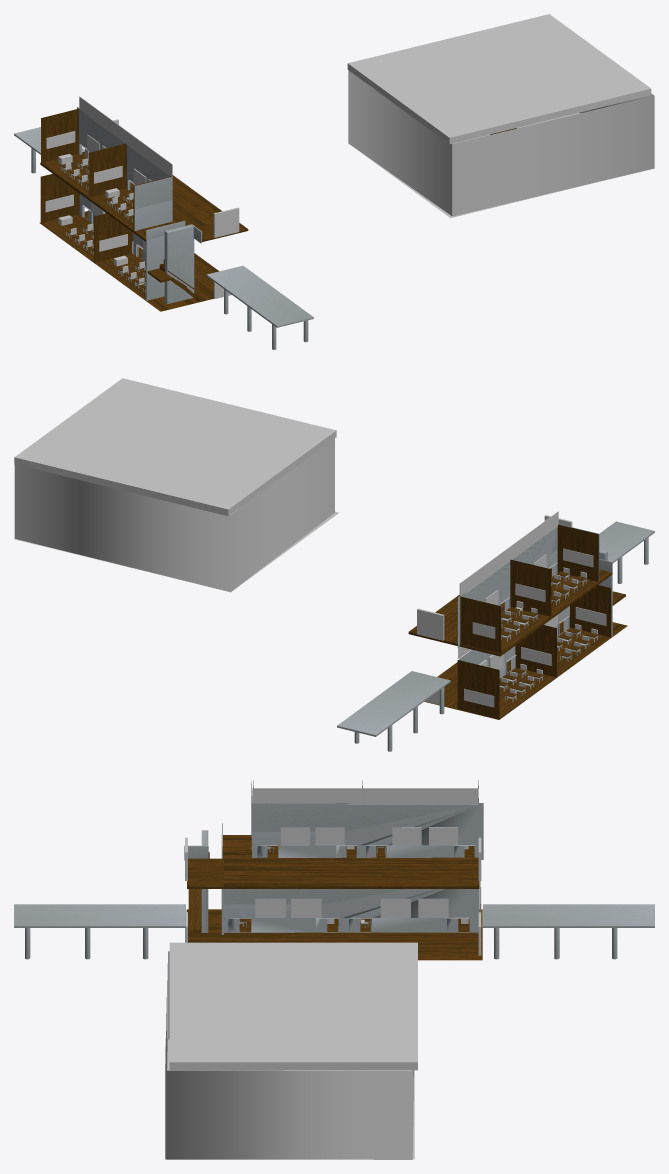
The model's file is stage.fbx.
3 views of the same model, one above another, from view 1: azimuth 30°, elevation 25°; view 2: azimuth 150°, elevation 25°; view 3: azimuth 270°, elevation 25° (orthographic). The views are drawn at different scales.
Parts seen in each view (by area): view 1: ウォールロゼ, 空, 2階床, 1階床, 外通路屋根, 階段内壁, 2階外壁, ブール演算教室壁2階, 2階外壁001, 2階外壁002, 隙間窓2階, 1階内壁002 (+5 smaller); view 2: 空, ウォールロゼ, 外通路屋根001, 1階床, 2階床, ブール演算教室壁2階, 1階内壁002, 2階外壁002, 2階外壁001, 2階外壁003, 隙間窓2階, 外通路屋根 (+4 smaller); view 3: 空, ウォールロゼ, ブール演算教室壁2階, 2階床, ブール演算教室壁, 1階床, 外通路屋根, 外通路屋根001, 隙間窓2階, ２階床.5, 1階窓1, 1階窓2 (+8 smaller).
Part boxes in pixels (box(x1,y1,x2,y2)): ウォールロゼ: box(348, 70, 654, 216); 空: box(347, 14, 651, 144); 2階床: box(40, 151, 221, 241); 1階床: box(39, 211, 218, 311); 外通路屋根: box(206, 265, 313, 327); 階段内壁: box(164, 224, 194, 303); 2階外壁: box(134, 176, 172, 230); ブール演算教室壁2階: box(77, 107, 169, 192); 2階外壁001: box(88, 143, 126, 197); 2階外壁002: box(41, 108, 78, 162); 隙間窓2階: box(79, 96, 172, 176); 1階内壁002: box(40, 174, 79, 222); 空: box(14, 378, 336, 516); ウォールロゼ: box(14, 438, 334, 592); 外通路屋根001: box(337, 671, 450, 736); 1階床: box(424, 621, 627, 719); 2階床: box(408, 567, 612, 656); ブール演算教室壁2階: box(457, 527, 557, 647); 1階内壁002: box(457, 660, 499, 719); 2階外壁002: box(460, 596, 501, 655); 2階外壁001: box(510, 559, 551, 616); 2階外壁003: box(557, 524, 598, 581); 隙間窓2階: box(459, 511, 558, 595); 外通路屋根: box(599, 521, 654, 563); 空: box(169, 942, 417, 1070); ウォールロゼ: box(165, 951, 413, 1159); ブール演算教室壁2階: box(252, 803, 483, 859); 2階床: box(223, 835, 479, 888); ブール演算教室壁: box(224, 889, 479, 932); 1階床: box(186, 909, 482, 960); 外通路屋根: box(14, 904, 185, 927); 外通路屋根001: box(483, 904, 654, 927); 隙間窓2階: box(252, 788, 478, 804); ２階床.5: box(187, 858, 223, 888); 1階窓1: box(255, 898, 285, 917); 1階窓2: box(291, 898, 321, 917).
Size of the model in its own units: 32545 by 7641 by 30540.
